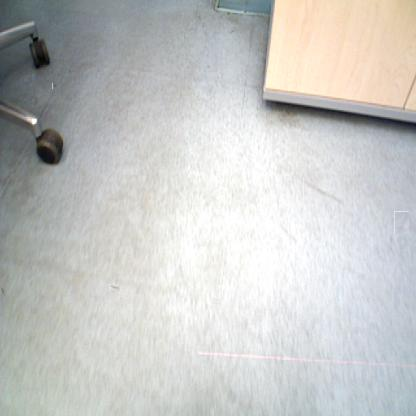mark: (303, 178, 342, 204), (392, 213, 411, 232), (110, 283, 119, 292), (0, 286, 6, 296), (52, 83, 57, 89)
